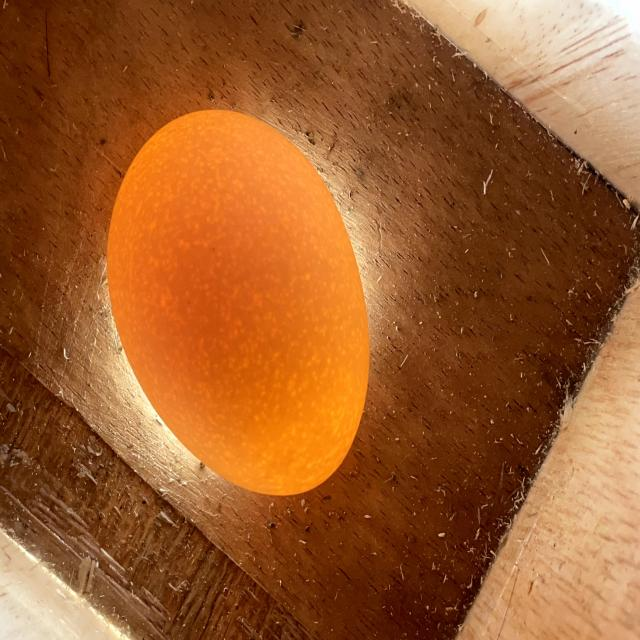infertile: (107, 110, 369, 495)
